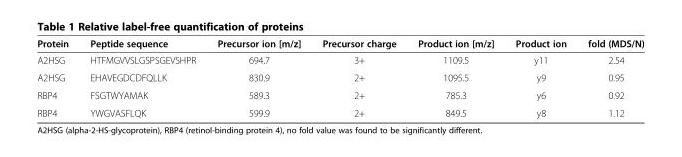table: (36, 37, 643, 118)
table column: (78, 37, 205, 118), (205, 37, 310, 118), (406, 37, 504, 118), (310, 37, 406, 118), (504, 37, 576, 118), (576, 37, 643, 118), (36, 37, 78, 118)
table column header: (36, 37, 643, 51)
table row: (36, 68, 643, 86), (36, 51, 643, 68), (36, 86, 643, 103), (36, 103, 643, 118), (36, 37, 643, 51)
